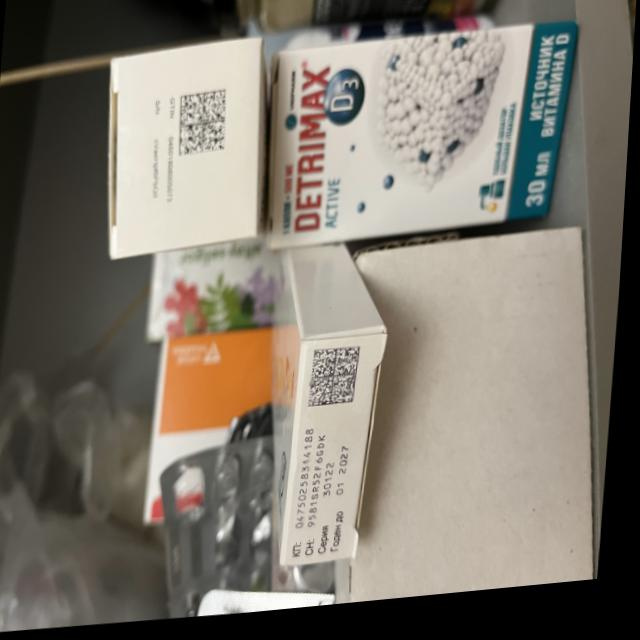datamatrix: (178, 91, 231, 162), (314, 352, 365, 414)
